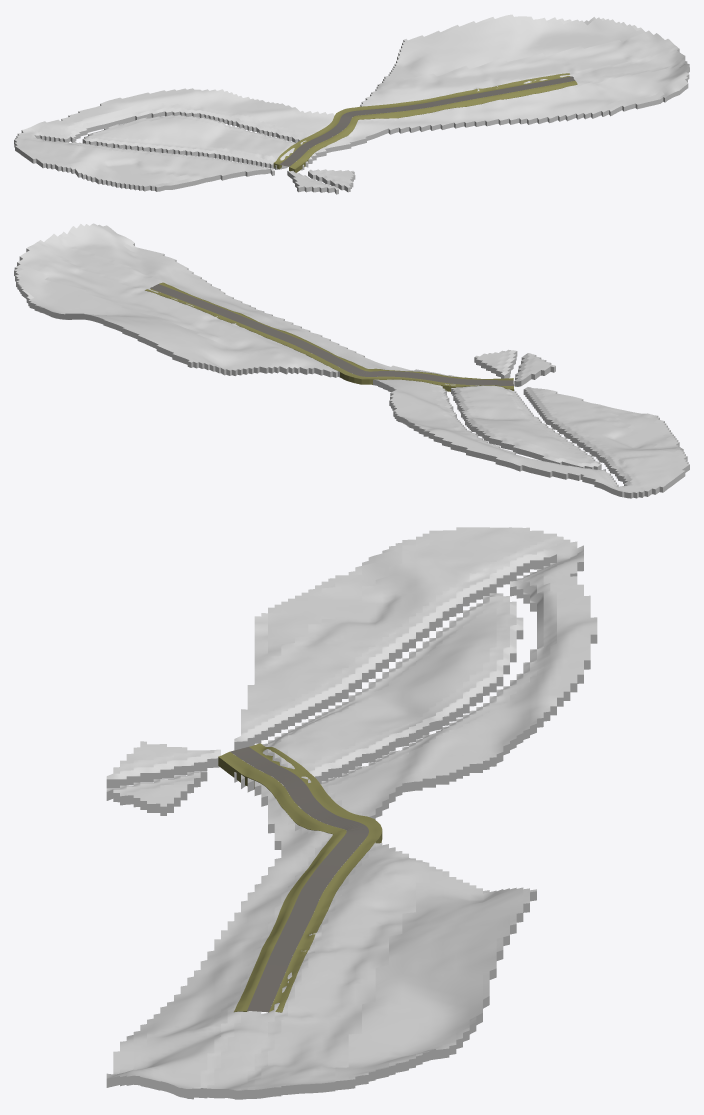
File: conz_125.glb
3 renders of one model, top to bottom at view 1: azimuth 30°, elevation 25°; view 2: azimuth 150°, elevation 25°; view 3: azimuth 270°, elevation 25°, orthographic. The views are drawn at different scales.
Visible parts, largest first — view 1: terrain125, verge125R, road125, verge125L; view 2: terrain125, road125, verge125L, verge125R; view 3: terrain125, road125, verge125R, verge125L.
Boxes of the visible parts, left/top/right/bottom form: terrain125: left=14, top=14, right=689, bottom=194; verge125R: left=289, top=80, right=577, bottom=172; road125: left=280, top=76, right=574, bottom=166; verge125L: left=273, top=73, right=570, bottom=169; terrain125: left=14, top=223, right=689, bottom=498; road125: left=150, top=284, right=513, bottom=385; verge125L: left=145, top=288, right=513, bottom=391; verge125R: left=159, top=282, right=513, bottom=380; terrain125: left=106, top=527, right=597, bottom=1099; road125: left=230, top=747, right=368, bottom=1012; verge125R: left=218, top=751, right=346, bottom=1012; verge125L: left=249, top=743, right=382, bottom=1012.
Size of the model in its own units: 406 by 28.61 by 146.
